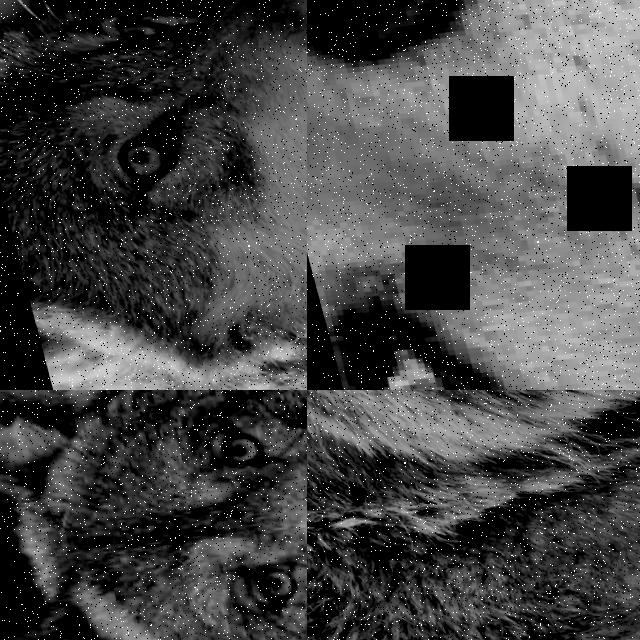dog: (307, 0, 640, 390)
wolf: (0, 0, 307, 390), (307, 390, 640, 640), (0, 390, 307, 640)
